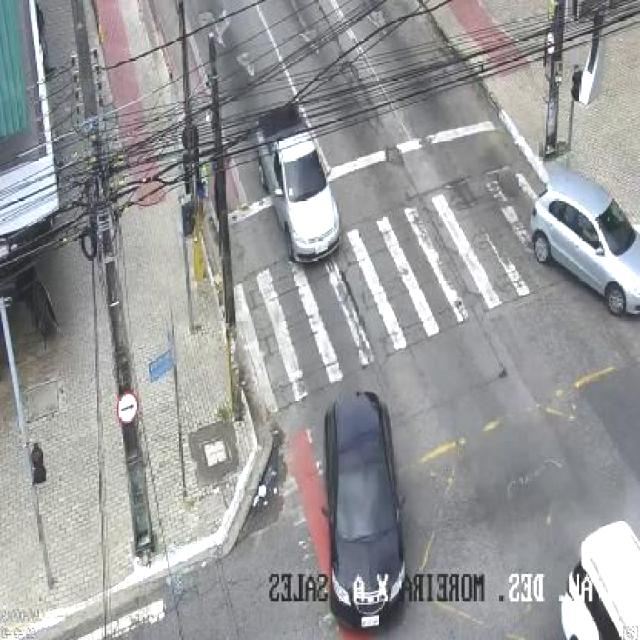Car: (328, 399, 407, 640), (523, 158, 640, 316), (551, 489, 640, 640)
Truck: (264, 106, 344, 264)
